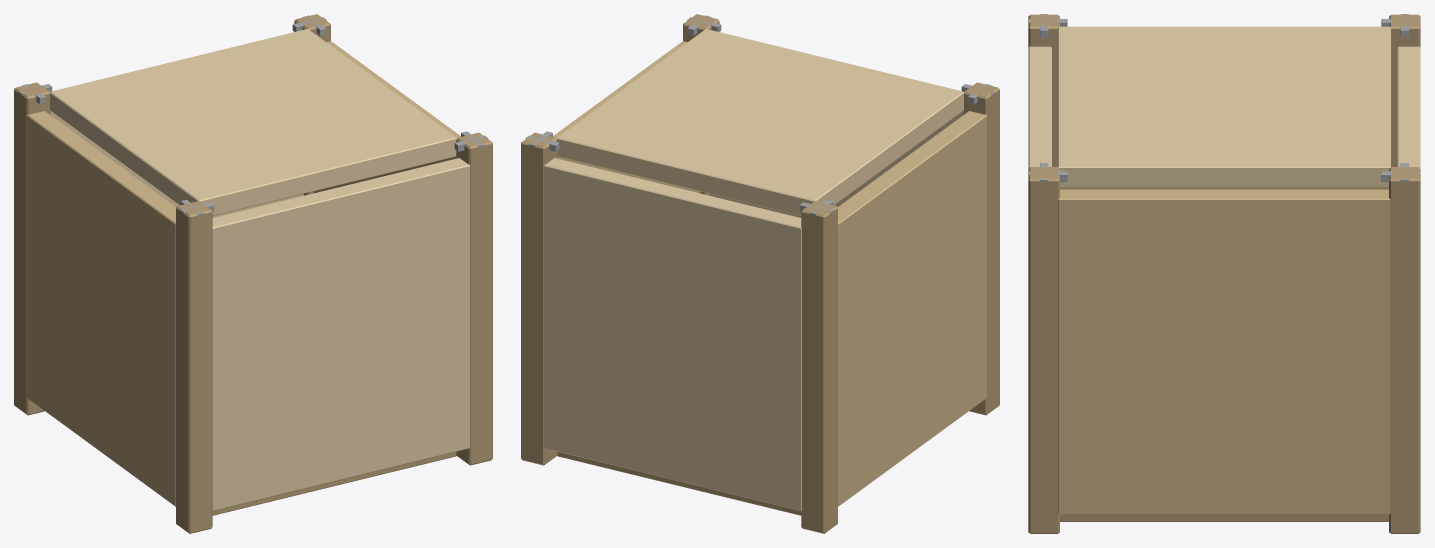
The model's file is FTF_Prop_WoodenCrate_Sealed_2m_Light_v1.glb.
3 renders of one model, left to right at view 1: azimuth 30°, elevation 25°; view 2: azimuth 150°, elevation 25°; view 3: azimuth 270°, elevation 25°, orthographic. The views are drawn at different scales.
Parts seen in each view (by area): view 1: FTF_Prop_WoodenCrate_Sealed_2m_Light_v1_Static; view 2: FTF_Prop_WoodenCrate_Sealed_2m_Light_v1_Static; view 3: FTF_Prop_WoodenCrate_Sealed_2m_Light_v1_Static.
Boxes of the visible parts, box(x1,y1,x2,y2) form: FTF_Prop_WoodenCrate_Sealed_2m_Light_v1_Static: box(14, 14, 492, 533); FTF_Prop_WoodenCrate_Sealed_2m_Light_v1_Static: box(521, 14, 999, 533); FTF_Prop_WoodenCrate_Sealed_2m_Light_v1_Static: box(1028, 14, 1420, 533).
Bounding box in the file's own units: 2 × 2 × 2.
